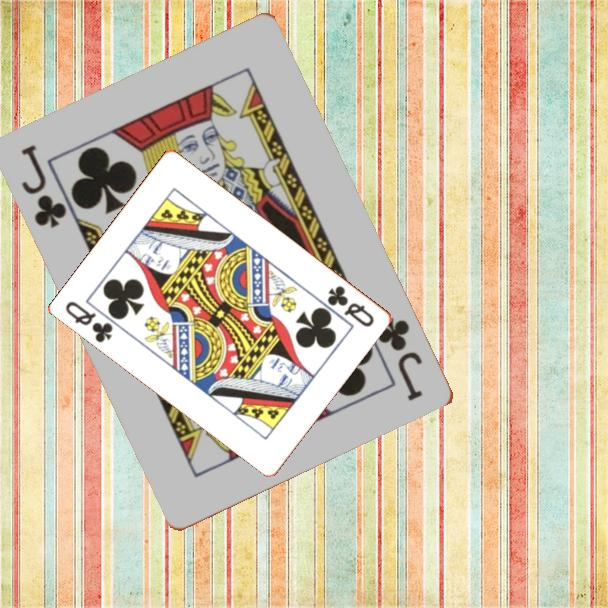c11: (374, 314, 426, 405), (18, 141, 70, 232)
c12: (62, 297, 116, 346), (324, 282, 378, 330)
